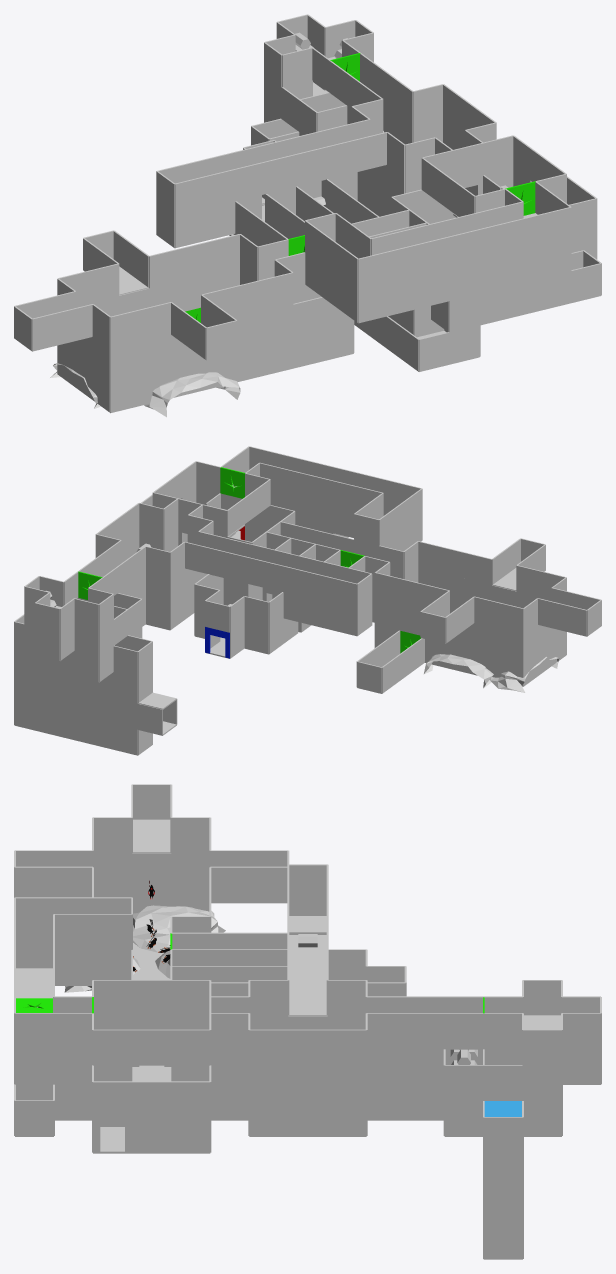
Rendered from lvl1(v0.2).FBX.
3 renders of one model, top to bottom at view 1: azimuth 30°, elevation 25°; view 2: azimuth 150°, elevation 25°; view 3: azimuth 270°, elevation 25°, orthographic. The views are drawn at different scales.
Visible parts, largest first — view 1: CorpsePile002, Wall103, Wall135, Wall383, Wall445, Wall367, Wall136, Wall357, Wall380, Wall134, Wall366, Wall071 (+116 smaller); view 2: CorpsePile001, Wall019, Wall155, Wall094, Wall132, Wall337, Wall391, Wall440, Wall130, Wall384, Wall385, Wall016 (+71 smaller); view 3: CorpsePile, Wall066, Wall293, Wall064, Wall067, Wall285, Wall287, Wall339, Wall342, Wall291, Wall295, Wall338 (+96 smaller).
Boxes of the visible parts, bbox=[...] form: CorpsePile002: bbox=[144, 372, 240, 417]; Wall103: bbox=[449, 229, 480, 268]; Wall135: bbox=[110, 309, 141, 348]; Wall383: bbox=[174, 176, 205, 215]; Wall445: bbox=[206, 320, 237, 359]; Wall367: bbox=[449, 293, 480, 332]; Wall136: bbox=[110, 373, 141, 412]; Wall357: bbox=[449, 325, 480, 364]; Wall380: bbox=[174, 209, 205, 247]; Wall134: bbox=[110, 342, 141, 380]; Wall366: bbox=[449, 261, 480, 300]; Wall071: bbox=[571, 263, 601, 302]; CorpsePile001: bbox=[424, 654, 493, 688]; Wall019: bbox=[498, 602, 523, 634]; Wall155: bbox=[467, 553, 492, 585]; Wall094: bbox=[308, 474, 333, 506]; Wall132: bbox=[516, 565, 541, 597]; Wall337: bbox=[354, 513, 379, 545]; Wall391: bbox=[233, 554, 258, 585]; Wall440: bbox=[420, 611, 445, 643]; Wall130: bbox=[442, 547, 467, 579]; Wall384: bbox=[332, 578, 357, 609]; Wall385: bbox=[307, 572, 332, 603]; Wall016: bbox=[399, 578, 424, 609]; CorpsePile: bbox=[133, 905, 225, 953]; Wall066: bbox=[132, 1081, 171, 1117]; Wall293: bbox=[288, 1029, 327, 1065]; Wall064: bbox=[171, 1081, 210, 1117]; Wall067: bbox=[93, 1081, 132, 1117]; Wall285: bbox=[444, 1013, 483, 1049]; Wall287: bbox=[405, 1013, 444, 1049]; Wall339: bbox=[132, 1029, 171, 1065]; Wall342: bbox=[132, 980, 171, 1016]; Wall291: bbox=[327, 1029, 366, 1065]; Wall295: bbox=[249, 1029, 288, 1065]; Wall338: bbox=[93, 1029, 132, 1065].
Bounding box in the file's own units: 36.1 × 12.05 × 30.1.
